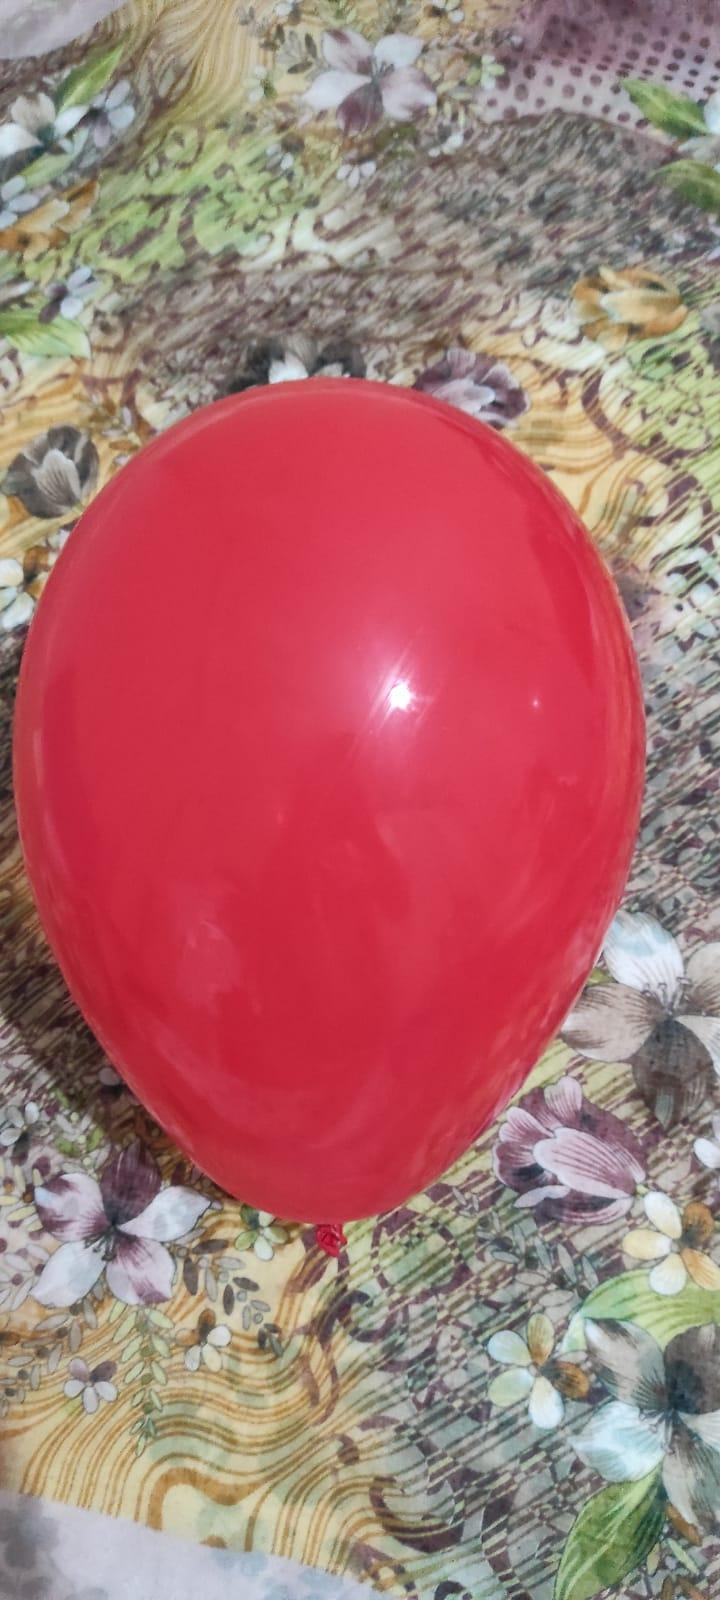red: (0, 354, 647, 1258)
